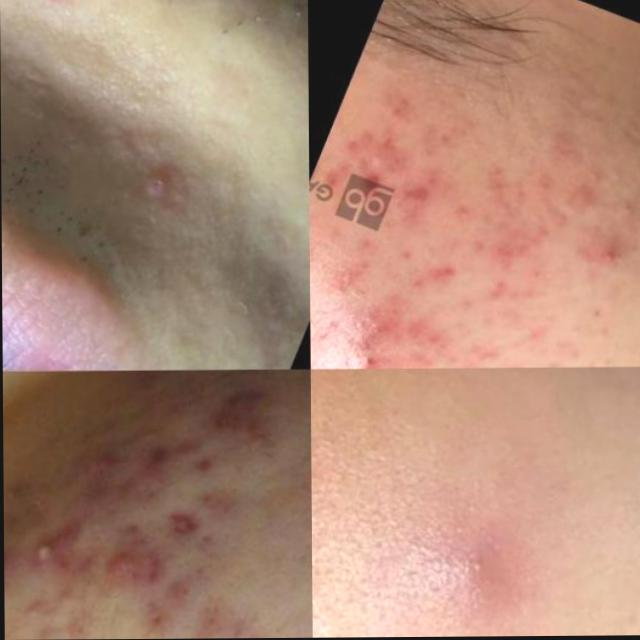8: (416, 508, 544, 629), (131, 140, 233, 216), (452, 151, 538, 231), (479, 212, 560, 293), (314, 236, 385, 311), (562, 180, 615, 235), (347, 341, 401, 369), (609, 198, 640, 234)
9: (584, 234, 634, 282)
blackheads: (196, 370, 286, 460), (4, 511, 82, 591), (90, 528, 176, 599), (349, 118, 422, 192), (153, 493, 213, 555), (421, 248, 484, 303), (395, 174, 442, 215), (310, 352, 348, 370)
